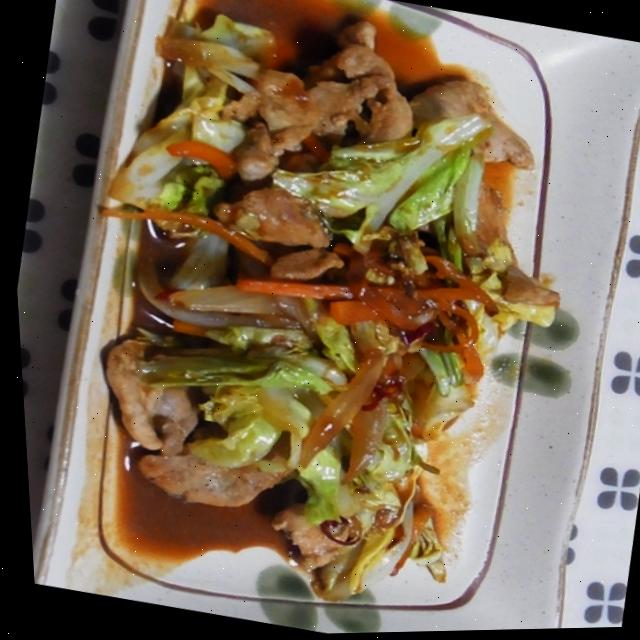猪肉菜式: (27, 0, 618, 631)
